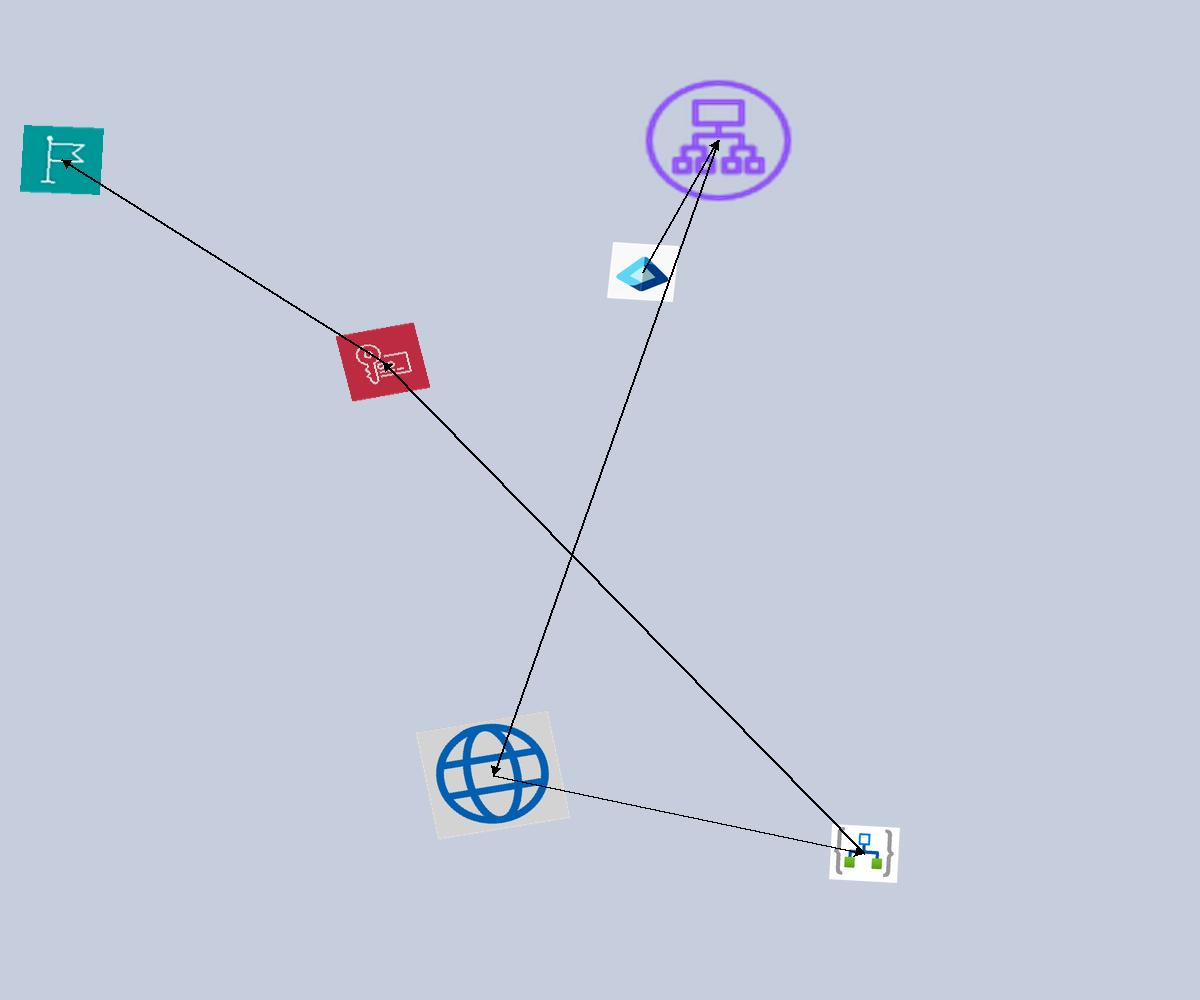AWS-Key-Management-Service: (335, 322, 431, 402)
AWS-Region: (20, 125, 104, 195)
AWS-Res_Elastic-Load-Balancing_Application-Load-Balancer: (636, 72, 801, 209)
Azure_http: (415, 710, 571, 840)
Azure_integration-204-Logic-Apps: (829, 824, 900, 883)
Azure_microsoft_entra: (607, 242, 679, 302)
